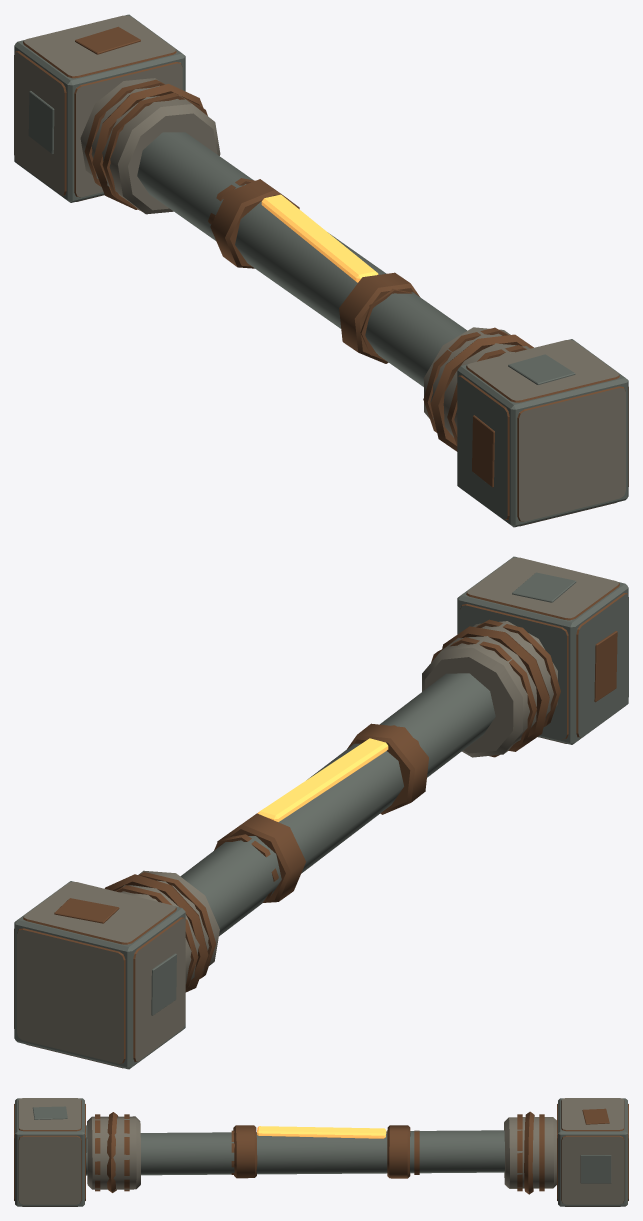
Rendered from R4C_ROD_STANDARD.fbx.
3 renders of one model, top to bottom at view 1: azimuth 30°, elevation 25°; view 2: azimuth 150°, elevation 25°; view 3: azimuth 270°, elevation 25°, orthographic. The views are drawn at different scales.
Parts seen in each view (by area): view 1: R4C_ROD_STANDARD; view 2: R4C_ROD_STANDARD; view 3: R4C_ROD_STANDARD.
Part boxes in pixels (box(x1,y1,x2,y2)): R4C_ROD_STANDARD: box(14, 14, 628, 527); R4C_ROD_STANDARD: box(14, 556, 628, 1069); R4C_ROD_STANDARD: box(14, 1098, 628, 1206).
Size of the model in its own units: 0.232 by 0.23 by 1.62.
